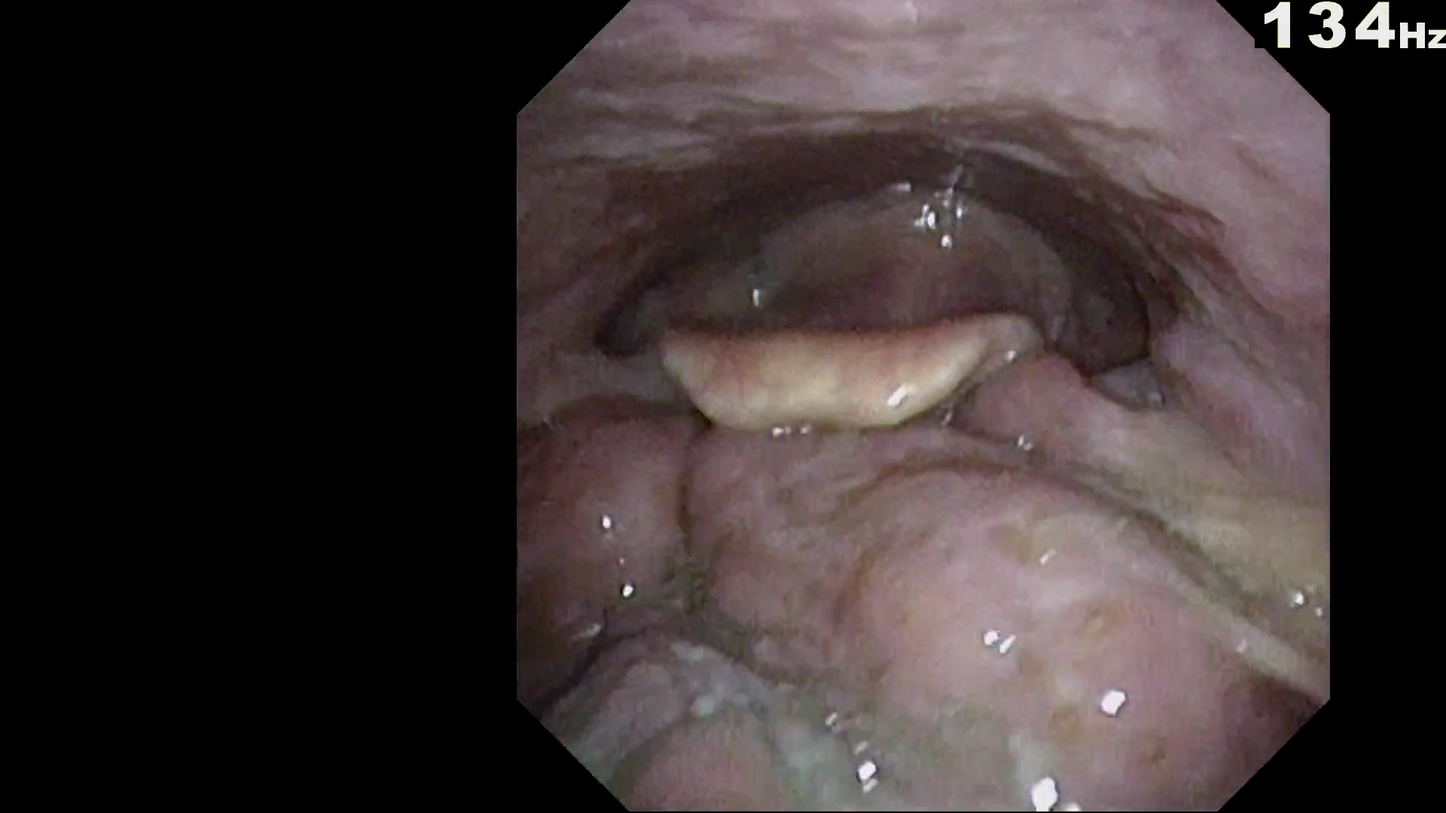epiglottis: (631, 318, 1126, 470)
